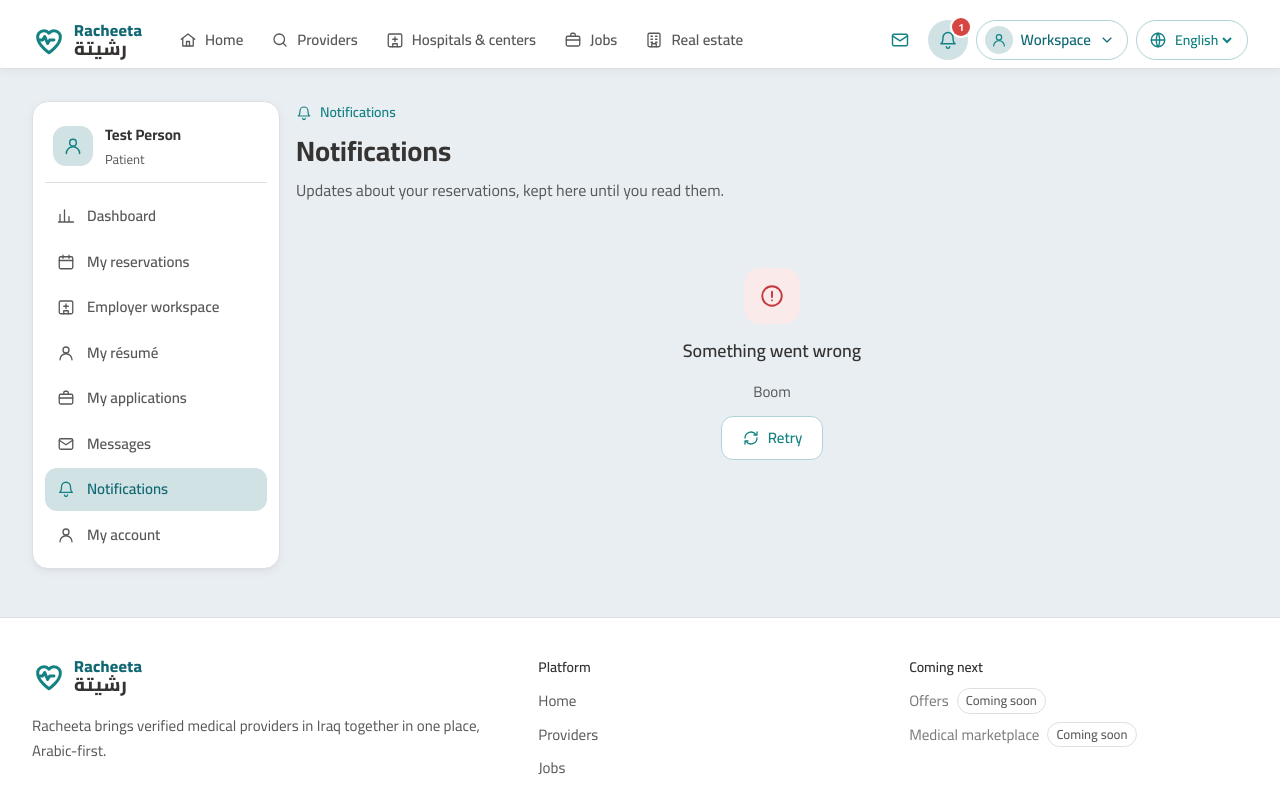
NotificationsPage › shows an error with retry
The width and height of the screenshot is (1280, 787).
Expected: the message "Something went wrong Boom Retry" is shown, top-left (683, 268), bottom-right (861, 460)
Click the button "Retry".
click(772, 438)  # box top-left (721, 416), bottom-right (823, 460)
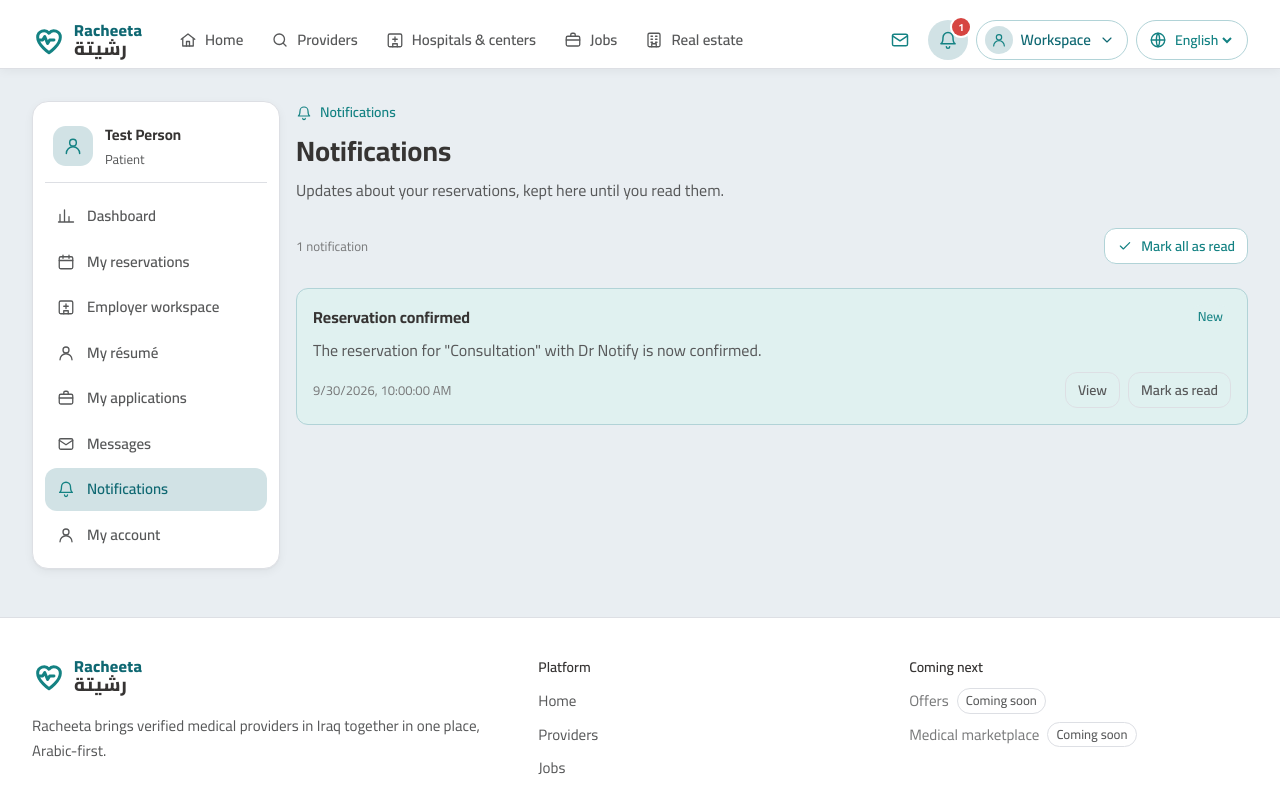
Result: the heading "Reservation confirmed" is shown at top-left (313, 307), bottom-right (470, 328)
